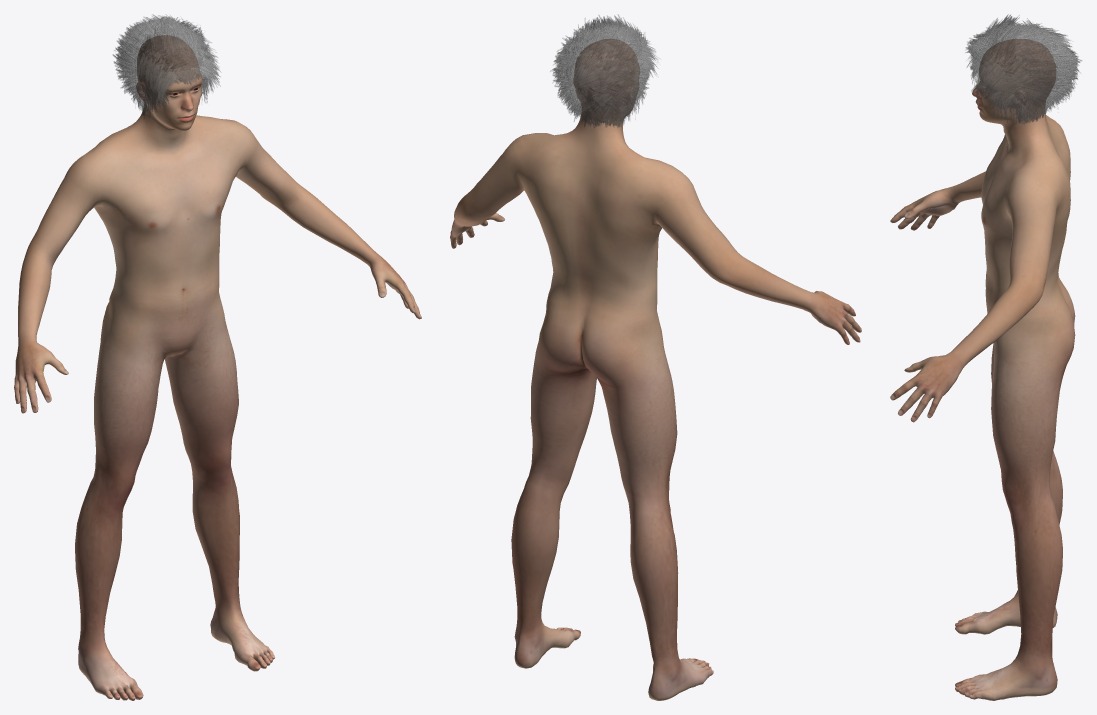
The model's file is _katalog_uretim.glb.
The picture shows the model from 3 angles, left to right: view 1: azimuth 30°, elevation 25°; view 2: azimuth 150°, elevation 25°; view 3: azimuth 270°, elevation 25°; orthographic projection.
Parts seen in each view (by area): view 1: beden, k05, k09, k02; view 2: beden, k05, k09, k02, k04; view 3: beden, k05, k09, k02, k04.
Boxes of the visible parts, x1,y1,x2,y2 form: beden: (14, 35, 421, 700); k05: (113, 14, 205, 110); k09: (114, 23, 220, 118); k02: (127, 16, 210, 108); beden: (450, 39, 861, 700); k05: (550, 14, 642, 123); k09: (553, 28, 659, 127); k02: (561, 24, 648, 116); k04: (557, 21, 641, 113); beden: (890, 39, 1075, 700); k05: (982, 14, 1081, 115); k09: (971, 23, 1057, 124); k02: (965, 18, 1056, 110); k04: (993, 22, 1077, 93).
Bounding box in the file's own units: 1.25 × 1.94 × 0.5279.
3 materials, 3 textured.
